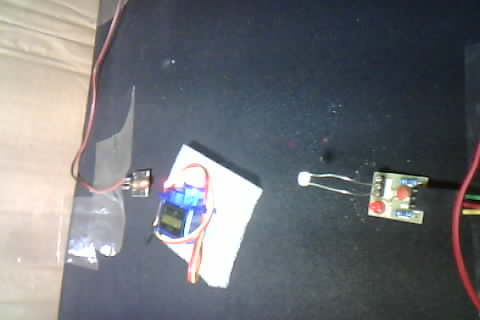motor: (145, 150, 227, 297)
